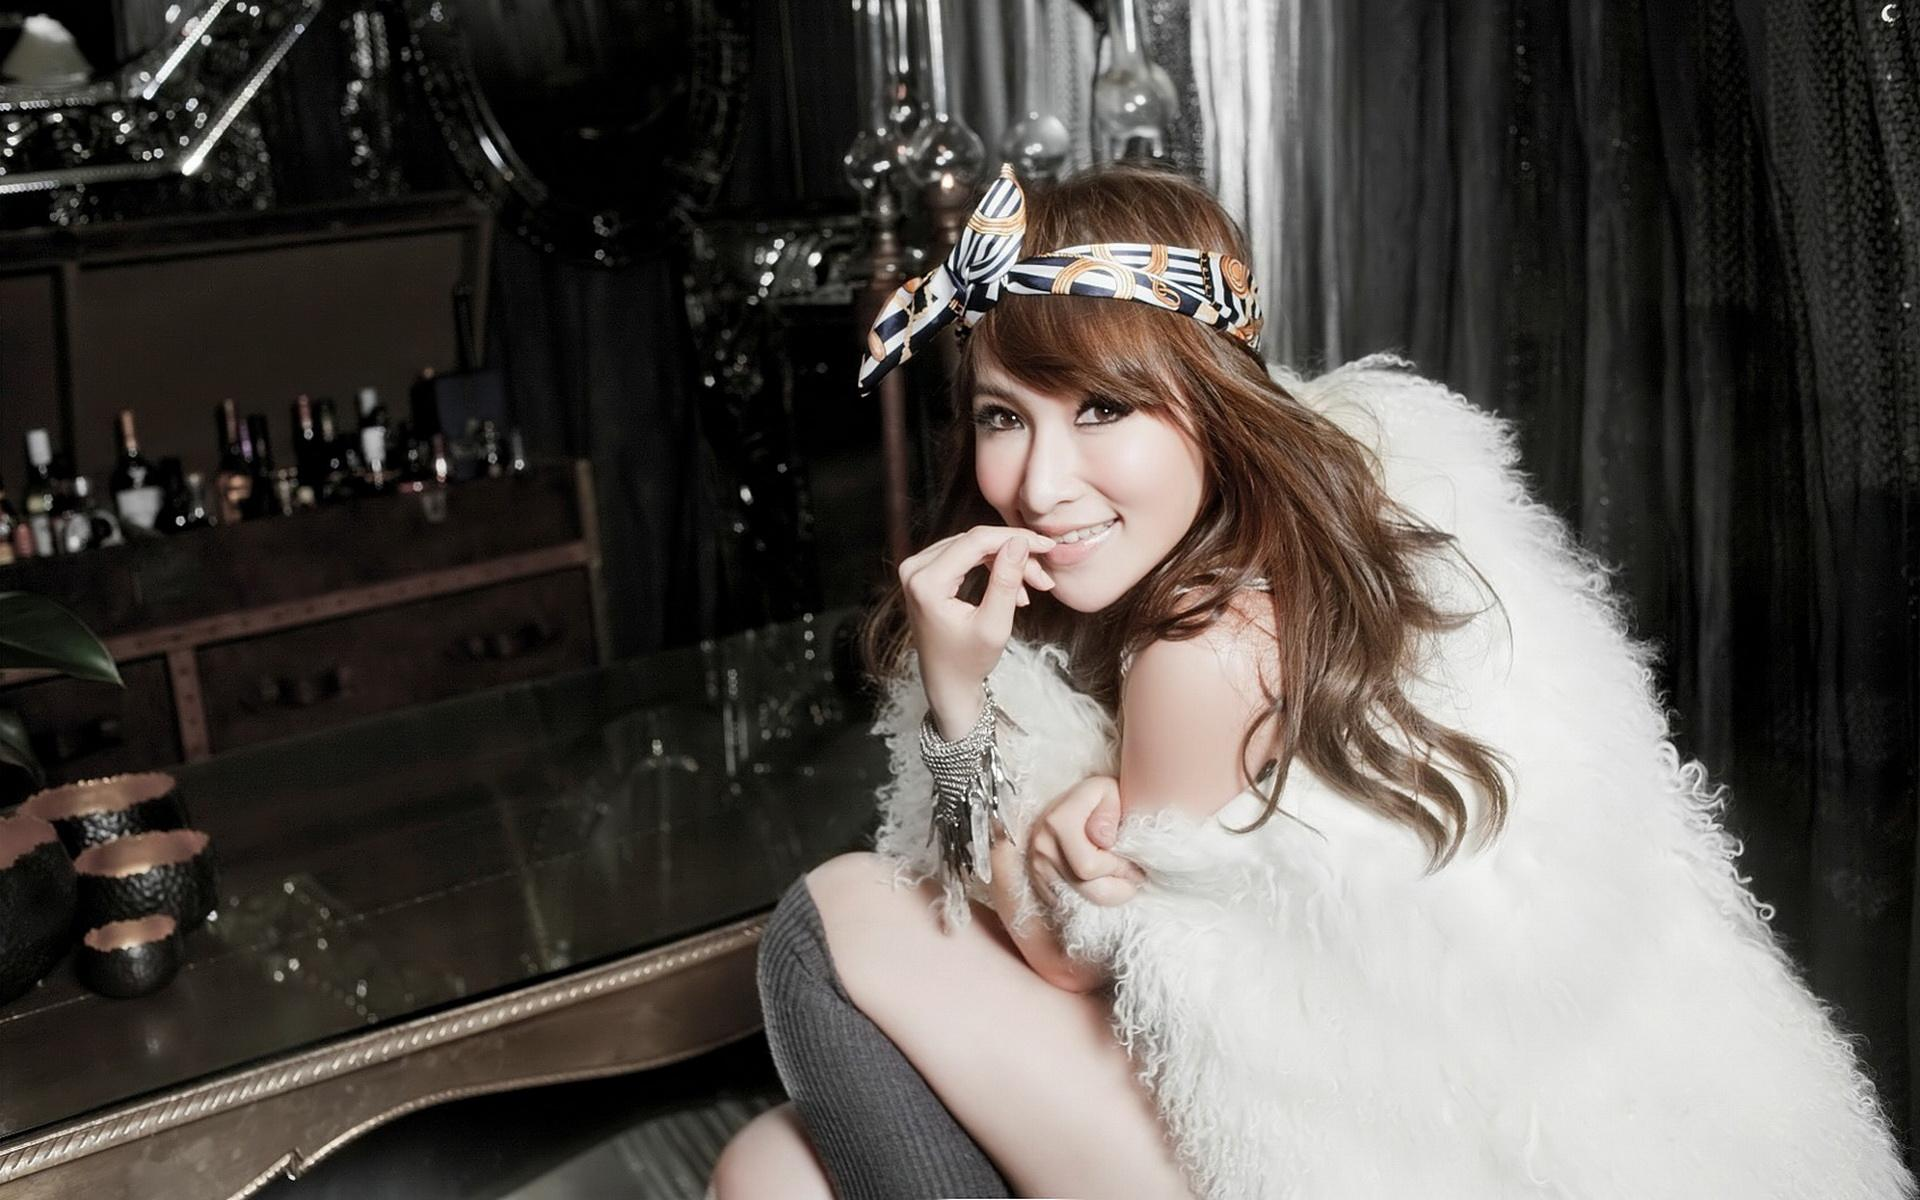person: (769, 127, 1544, 1023)
